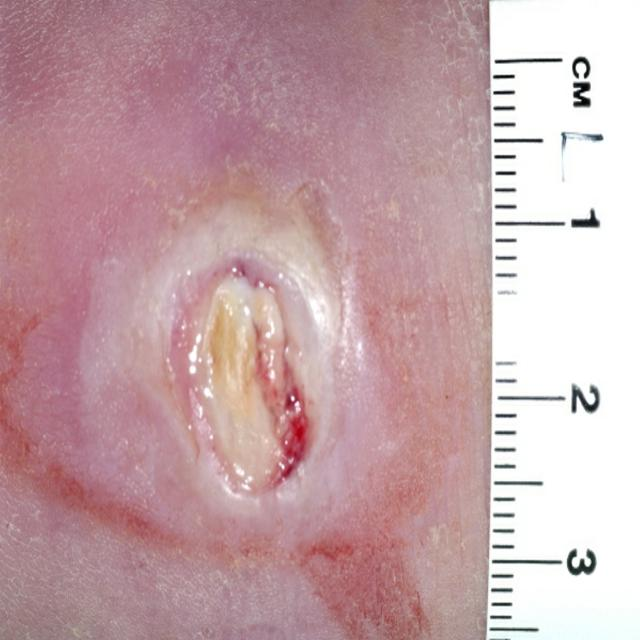wound: (183, 264, 315, 498)
